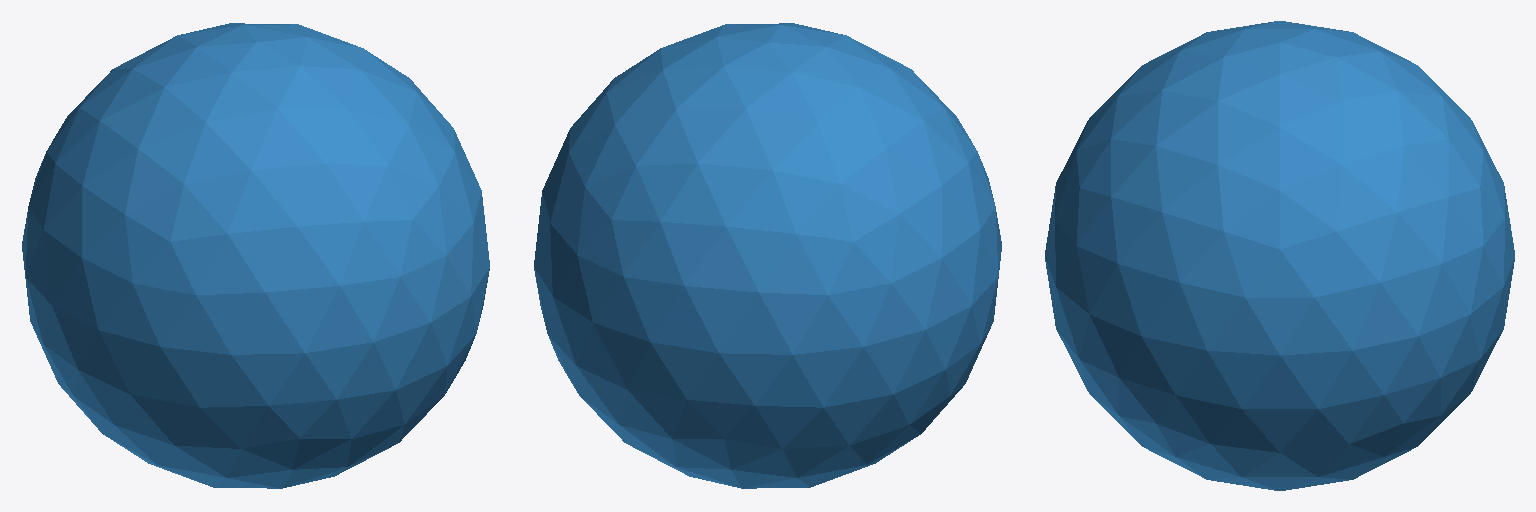
Rendered from skybox.obj.
3 renders of one model, left to right at view 1: azimuth 30°, elevation 25°; view 2: azimuth 150°, elevation 25°; view 3: azimuth 270°, elevation 25°, orthographic.
Size of the model in its own units: 146 by 146 by 146.